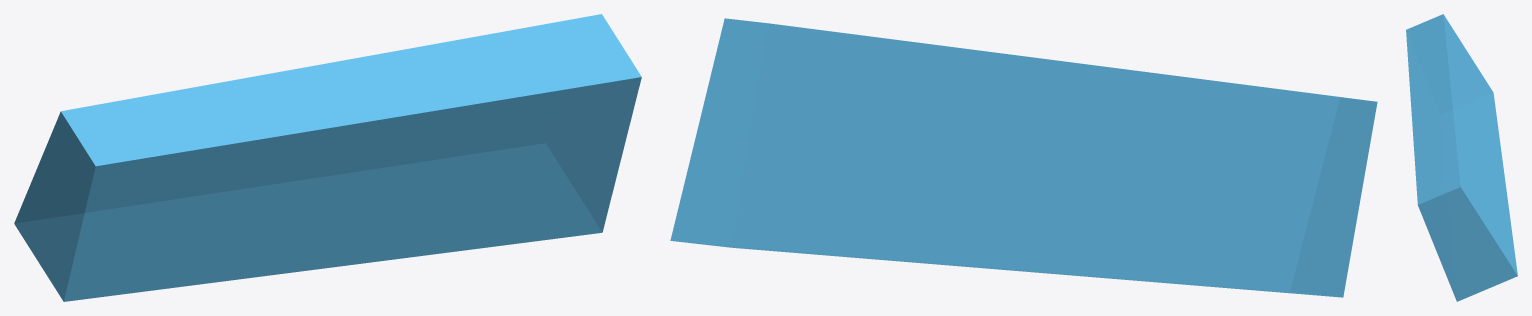
File: Event_421556567_HErechit_76.fbx
3 views of the same model, side by side, from view 1: azimuth 30°, elevation 25°; view 2: azimuth 150°, elevation 25°; view 3: azimuth 270°, elevation 25° (orthographic). The views are drawn at different scales.
Visible parts, largest first — view 1: Model; view 2: Model; view 3: Model.
Boxes of the visible parts, <box> form: Model: <box>14,14,641,301</box>; Model: <box>670,18,1377,297</box>; Model: <box>1406,14,1517,301</box>.
Bounding box in the file's own units: 1.61 × 0.7345 × 0.5222.
